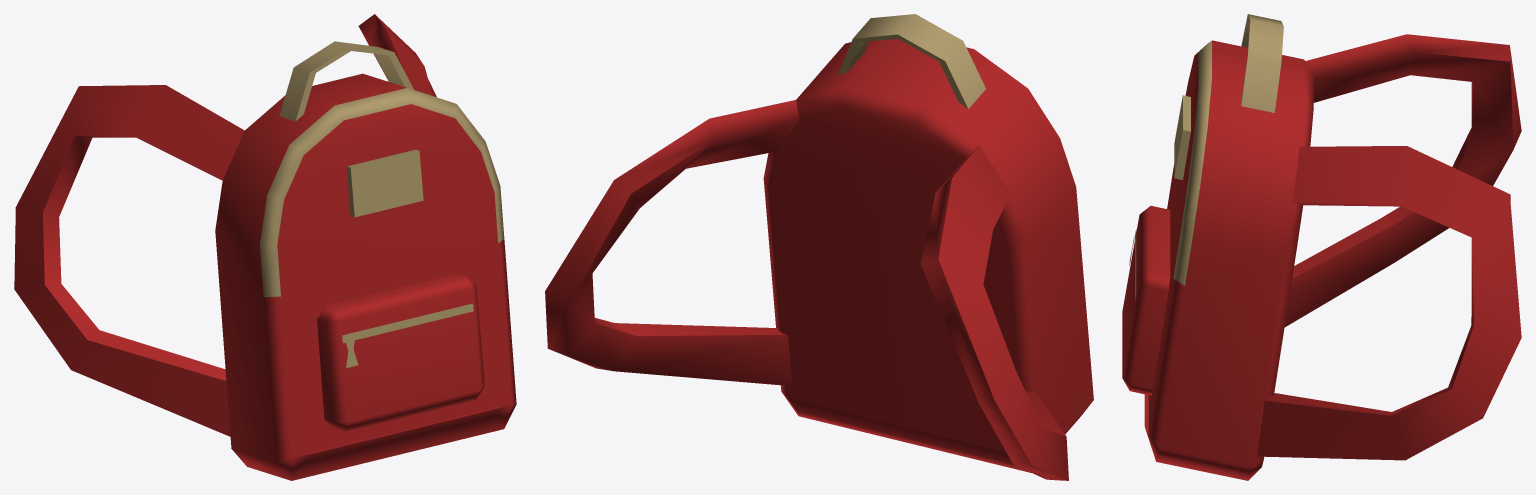
The model's file is hat_backpack.glb.
The picture shows the model from 3 angles, left to right: view 1: azimuth 30°, elevation 25°; view 2: azimuth 150°, elevation 25°; view 3: azimuth 270°, elevation 25°; orthographic projection. The views are drawn at different scales.
Parts seen in each view (by area): view 1: hat_backpack; view 2: hat_backpack; view 3: hat_backpack.
Part boxes in pixels (x1,y1,x2,y2): hat_backpack: (14, 14, 516, 480); hat_backpack: (545, 14, 1093, 480); hat_backpack: (1122, 14, 1521, 480).
Size of the model in its own units: 0.5161 by 0.4375 by 0.3892.
